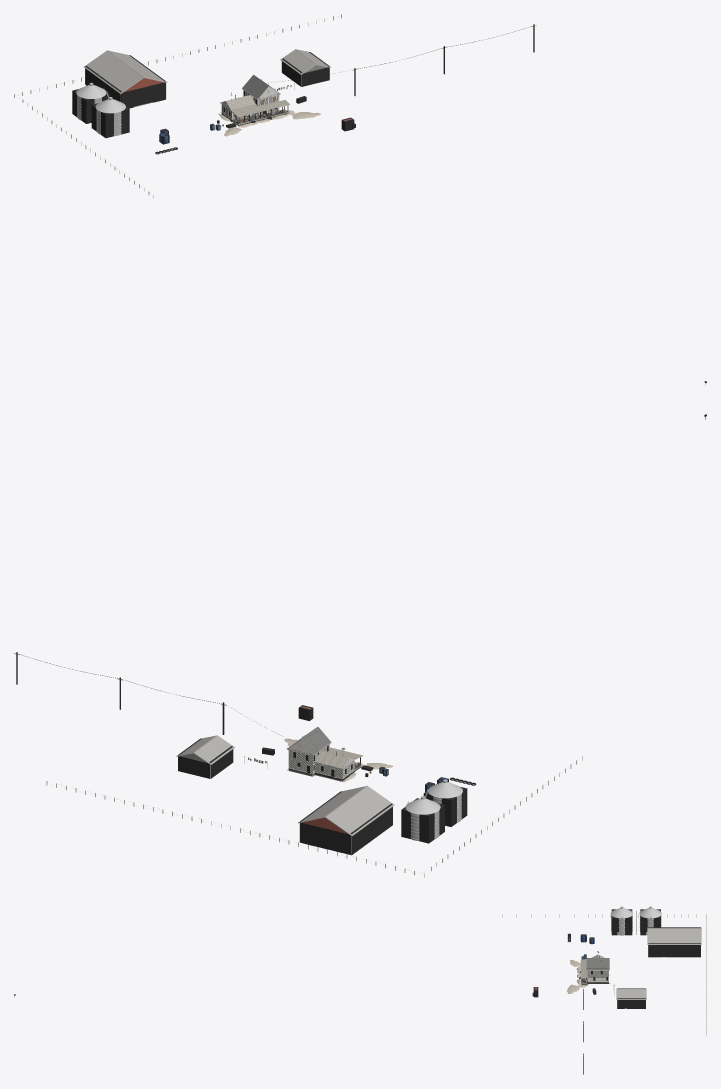
The model's file is farm.glb.
The picture shows the model from 3 angles, top to bottom: view 1: azimuth 30°, elevation 25°; view 2: azimuth 150°, elevation 25°; view 3: azimuth 270°, elevation 25°; orthographic projection. The views are drawn at different scales.
Visible parts, largest first — view 1: farm_house, farm_barn, farm_yard, farm_roofs, COL_bin1, farm_garage; view 2: farm_barn, farm_house, farm_yard, COL_barncn_0, farm_roofs, COL_bin0, farm_garage, COL_barncw_0; view 3: farm_barn, farm_yard, farm_house, COL_barnce_1, farm_roofs, farm_garage, COL_bin1.
Boxes of the visible parts, box(x1,y1,x2,y2) form: farm_house: box(15, 26, 531, 136); farm_barn: box(72, 50, 167, 107); farm_yard: box(14, 14, 705, 385); farm_roofs: box(226, 75, 289, 116); COL_bin1: box(91, 99, 129, 138); farm_garage: box(280, 49, 330, 89); farm_barn: box(288, 785, 394, 860); farm_house: box(20, 654, 428, 833); farm_yard: box(14, 416, 705, 877); COL_barncn_0: box(300, 822, 351, 855); farm_roofs: box(294, 727, 362, 768); COL_bin0: box(401, 798, 444, 843); farm_garage: box(176, 735, 244, 778); COL_barncw_0: box(352, 807, 392, 854); farm_barn: box(647, 927, 706, 958); farm_yard: box(14, 906, 706, 1055); farm_house: box(567, 911, 636, 993); COL_barnce_1: box(665, 945, 700, 957); farm_roofs: box(580, 954, 609, 978); farm_garage: box(614, 988, 646, 1008); COL_bin1: box(611, 909, 632, 935).
Size of the model in its own units: 157 by 11.45 by 290.
